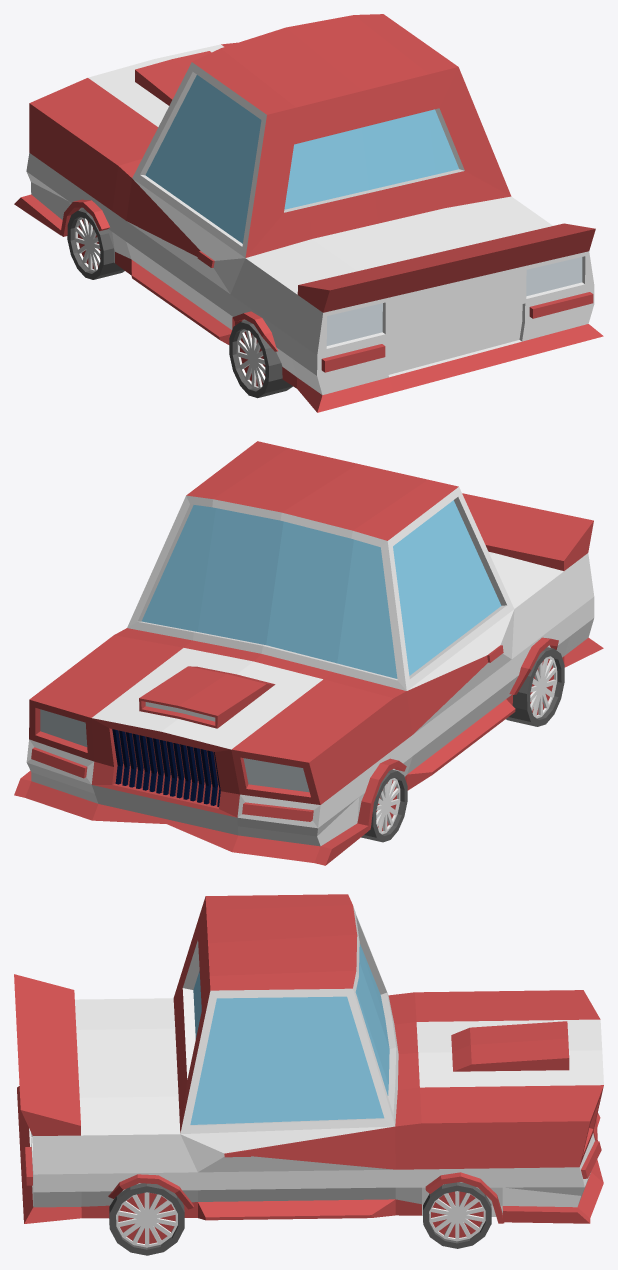
The model's file is red_car.gltf.
3 views of the same model, one above another, from view 1: azimuth 30°, elevation 25°; view 2: azimuth 150°, elevation 25°; view 3: azimuth 270°, elevation 25° (orthographic). The views are drawn at different scales.
Visible parts, largest first — view 1: body, backlight, wheel.1, wheel1.1, front_fender, rear_fender; view 2: body, lattice.1, wheel.1, headlight, wheel1.1, front_fender, rear_fender; view 3: body, wheel.1, wheel1.1, front_fender, rear_fender.
Part boxes in pixels (<box>): body: <box>14,14,603,412</box>; backlight: <box>326,257,582,345</box>; wheel.1: <box>229,320,292,398</box>; wheel1.1: <box>67,209,124,279</box>; front_fender: <box>61,199,109,236</box>; rear_fender: <box>232,311,277,351</box>; body: <box>14,441,603,865</box>; lattice.1: <box>112,729,220,806</box>; wheel.1: <box>506,647,564,726</box>; headlight: <box>40,709,309,792</box>; wheel1.1: <box>361,769,407,842</box>; front_fender: <box>357,758,406,830</box>; rear_fender: <box>509,637,558,694</box>; body: <box>14,894,603,1223</box>; wheel.1: <box>109,1183,184,1255</box>; wheel1.1: <box>423,1182,491,1248</box>; front_fender: <box>425,1172,504,1223</box>; rear_fender: <box>108,1174,193,1209</box>.
Size of the model in its own units: 0.3524 by 0.277 by 0.5942.
